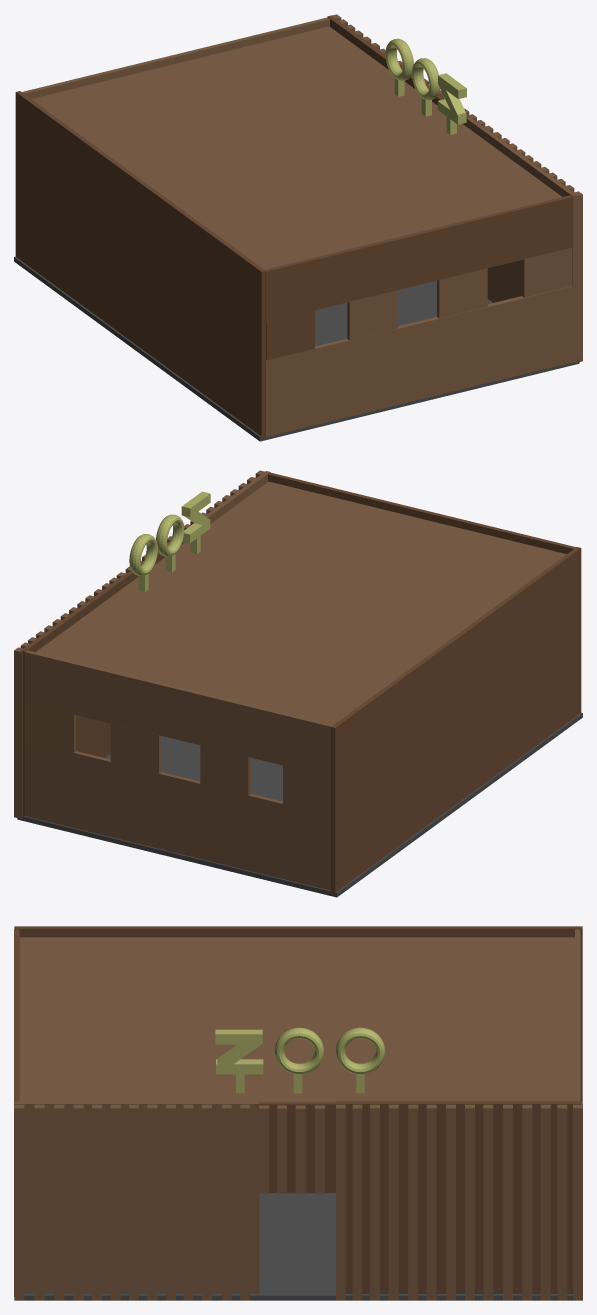
The model's file is Building.fbx.
3 renders of one model, top to bottom at view 1: azimuth 30°, elevation 25°; view 2: azimuth 150°, elevation 25°; view 3: azimuth 270°, elevation 25°, orthographic. The views are drawn at different scales.
Visible parts, largest first — view 1: Wall, Ceiling, Floor, ZooSign; view 2: Wall, Ceiling, Floor, ZooSign; view 3: Wall, Ceiling, Floor, ZooSign.
Part boxes in pixels (bbox=[...]): Wall: bbox=[15, 14, 582, 438]; Ceiling: bbox=[31, 26, 561, 269]; Floor: bbox=[14, 256, 579, 441]; ZooSign: bbox=[385, 38, 466, 134]; Wall: bbox=[14, 470, 581, 894]; Ceiling: bbox=[36, 481, 566, 724]; Floor: bbox=[17, 712, 582, 897]; ZooSign: bbox=[129, 491, 210, 591]; Wall: bbox=[14, 926, 582, 1300]; Ceiling: bbox=[19, 937, 574, 1101]; Floor: bbox=[24, 1193, 572, 1300]; ZooSign: bbox=[215, 1027, 385, 1093].
Size of the model in its own units: 1516 by 991 by 2002.
